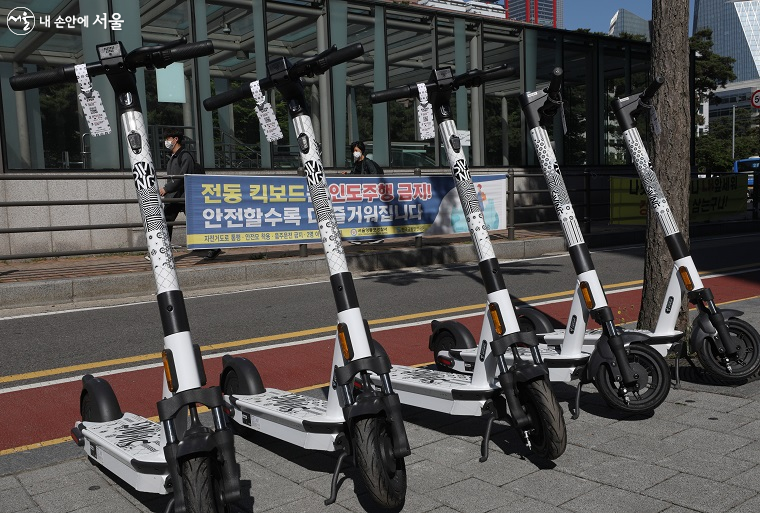kick_handler: (22, 36, 212, 86), (217, 46, 365, 99), (382, 64, 511, 103), (611, 77, 664, 124), (542, 67, 567, 121)
kick_neck: (108, 86, 211, 391), (277, 91, 387, 375), (431, 109, 532, 349), (608, 117, 718, 307), (521, 111, 615, 326)
kick_wheel: (336, 397, 411, 509), (585, 331, 666, 413), (513, 364, 568, 466), (689, 309, 760, 381), (424, 319, 475, 371), (74, 375, 119, 426), (220, 356, 258, 397)
